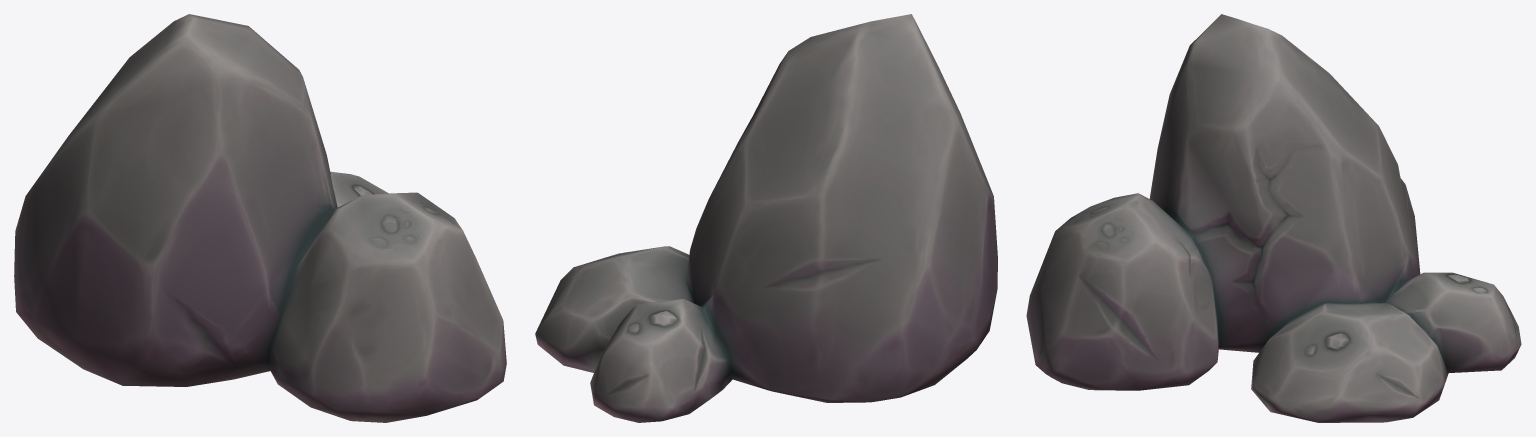
The model's file is stylized_rocks.glb.
3 views of the same model, side by side, from view 1: azimuth 30°, elevation 25°; view 2: azimuth 150°, elevation 25°; view 3: azimuth 270°, elevation 25° (orthographic). The views are drawn at different scales.
Visible parts, largest first — view 1: Rocks_v02_LP2:Group11652; view 2: Rocks_v02_LP2:Group11652; view 3: Rocks_v02_LP2:Group11652.
Part boxes in pixels (x1,y1,x2,y2): Rocks_v02_LP2:Group11652: (14, 14, 506, 422); Rocks_v02_LP2:Group11652: (535, 14, 997, 422); Rocks_v02_LP2:Group11652: (1026, 14, 1521, 422).
Bounding box in the file's own units: 1.64 × 1.3 × 2.
1 material, 1 textured.
